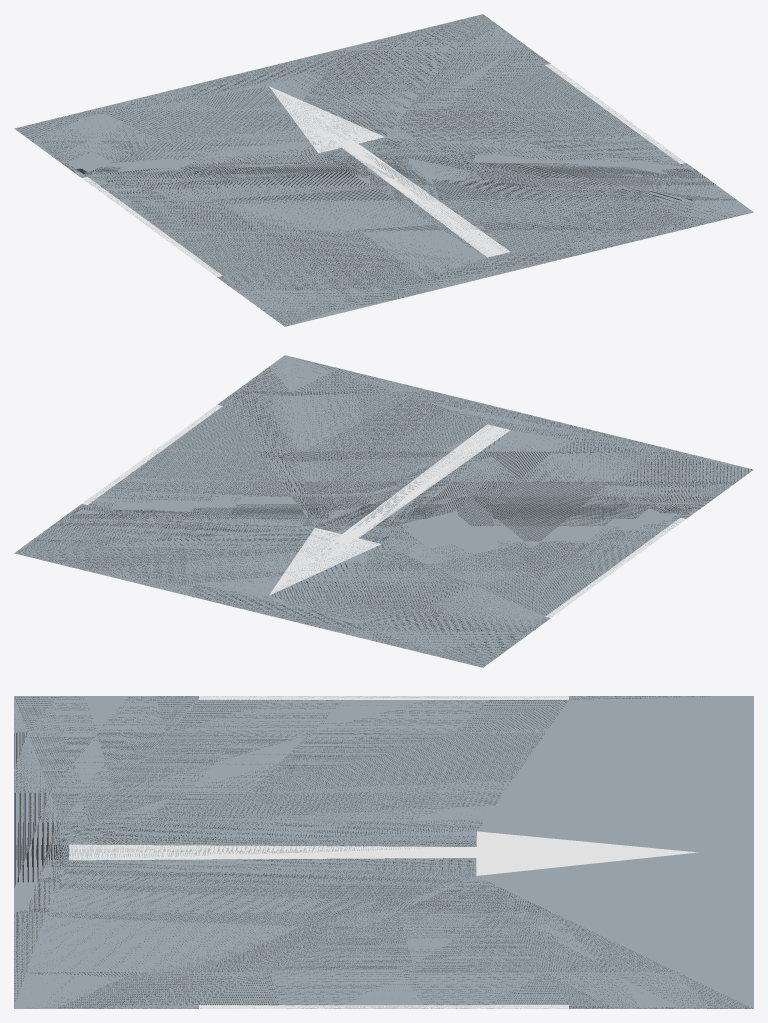
Rendered from lane_arrow.fbx.
3 views of the same model, one above another, from view 1: azimuth 30°, elevation 25°; view 2: azimuth 150°, elevation 25°; view 3: azimuth 270°, elevation 25° (orthographic). The views are drawn at different scales.
Parts seen in each view (by area): view 1: Model; view 2: Model; view 3: Model.
Boxes of the visible parts, <box> form: Model: <box>14,14,753,326</box>; Model: <box>14,355,753,667</box>; Model: <box>14,696,753,1008</box>.
Size of the model in its own units: 4 by 0 by 4.
